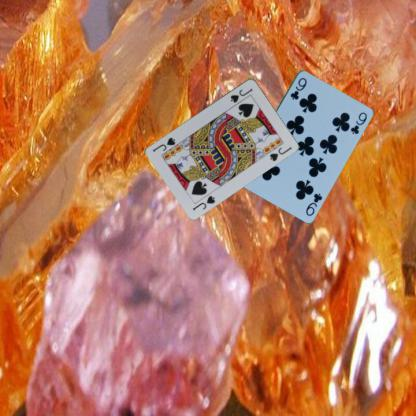9c: (302, 190, 324, 217), (288, 74, 308, 100)
Js: (190, 192, 217, 212), (228, 86, 254, 104)
